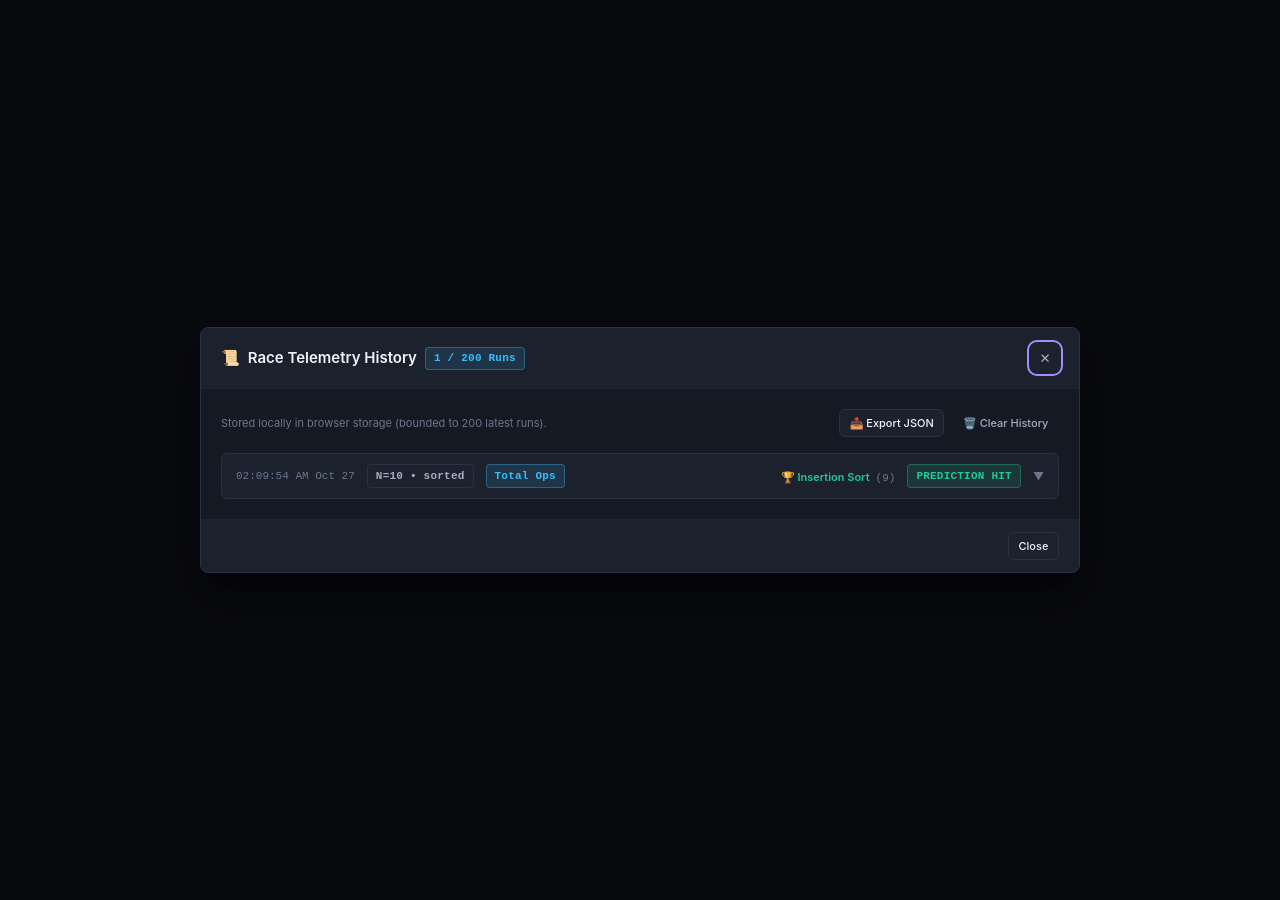
HistoryModal Component › expands run details upon click to display the 5-lane breakdown table
Click to expand
Click the button that starts with "02:09:54 AM Oct 27" at (295, 476), box x1=236 y1=464 x2=1044 y2=488
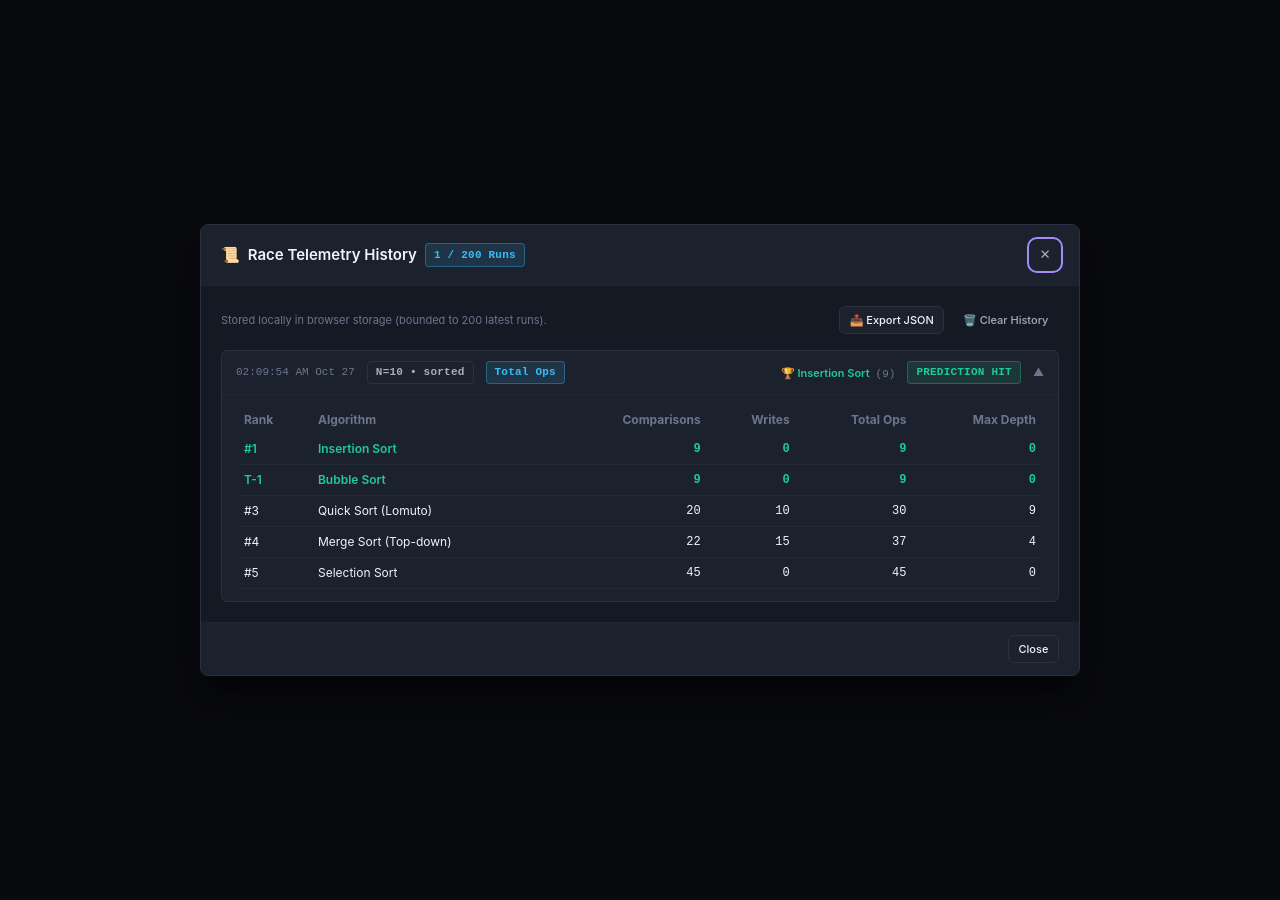
Result: the table is shown at x1=236 y1=407 x2=1044 y2=589
Result: the column heading "Comparisons" is shown at x1=555 y1=407 x2=709 y2=434
Result: the column heading "Writes" is shown at x1=709 y1=407 x2=798 y2=434
